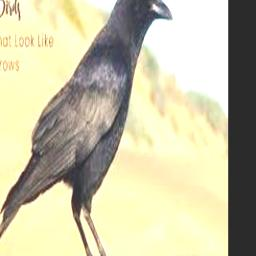Crow: (0, 0, 173, 256)
